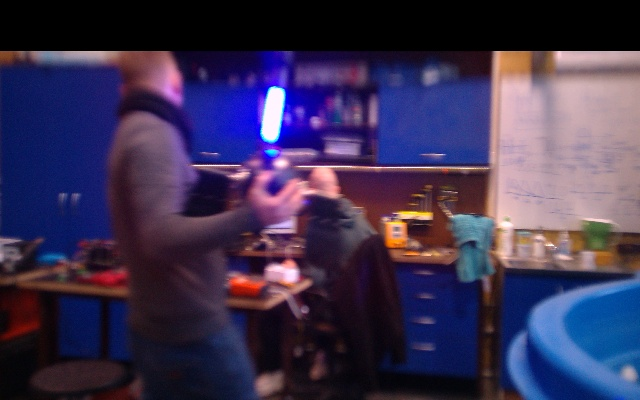blue: (261, 85, 287, 143)
